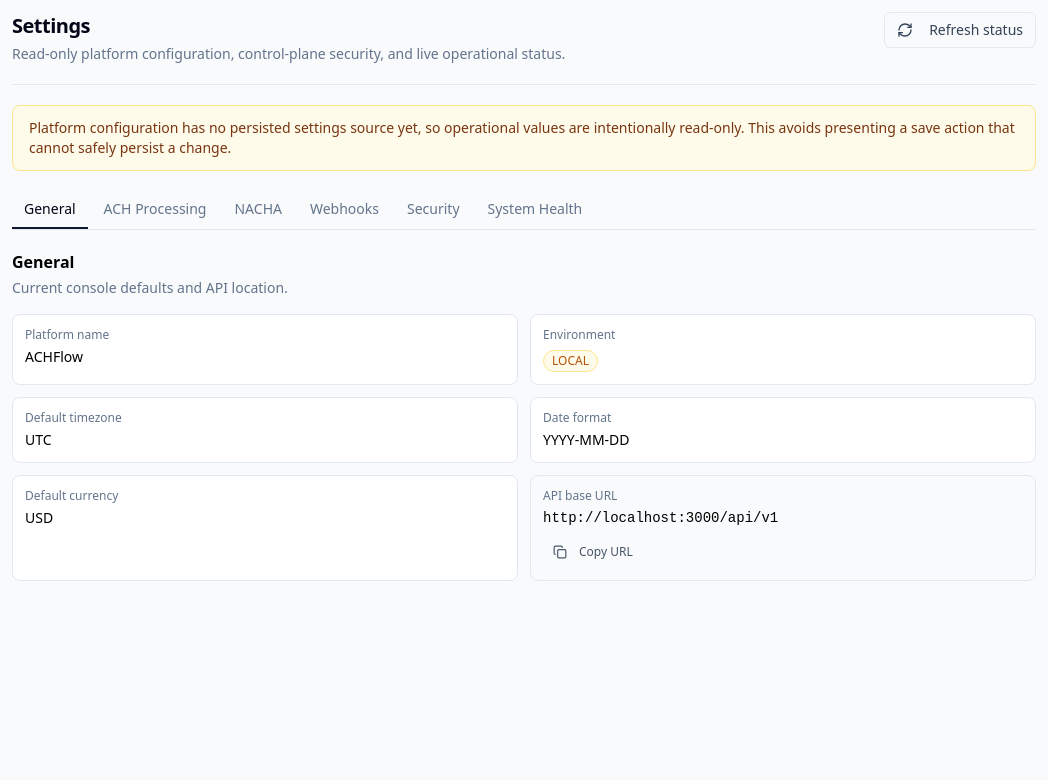
it: SettingsManager › shows live backlog, unknown worker health, and scheduled NACHA generation
Expected: the text "ACHFlow" is shown, [25, 347, 83, 366]
Click the button "ACH Processing". click: (155, 210)
box: [92, 191, 218, 229]
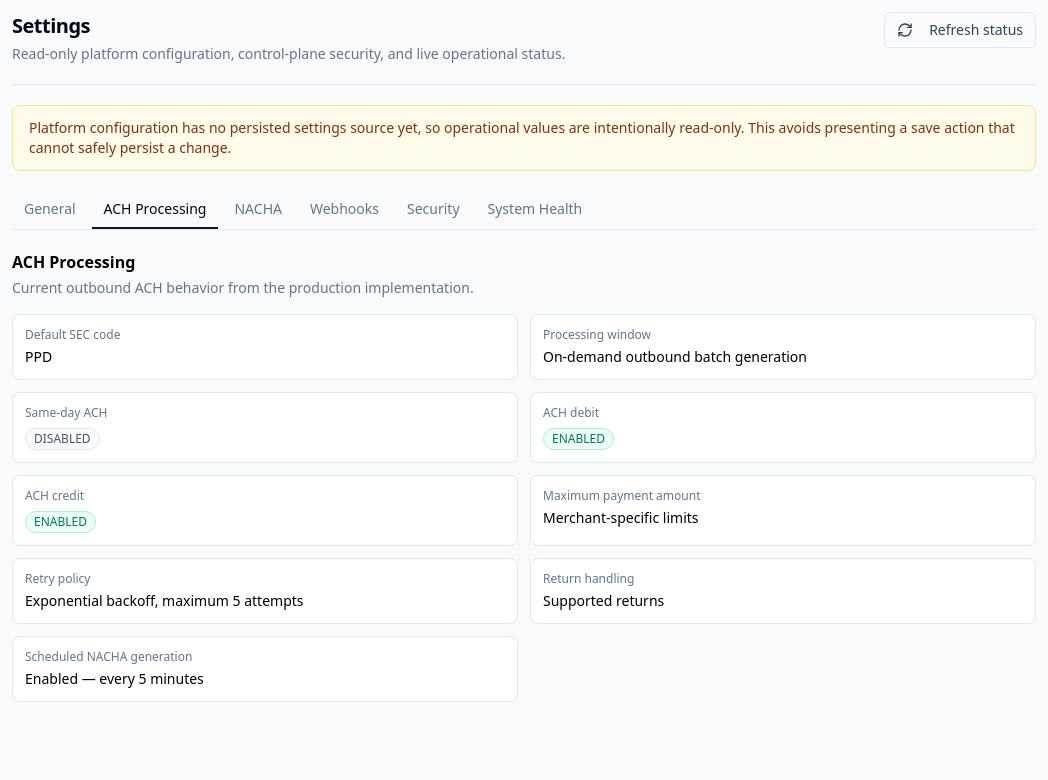
Expected: the text "Enabled — every 5 minutes" is shown, [25, 669, 204, 688]
Click the button "System Health". click: (535, 210)
box: [476, 191, 594, 229]
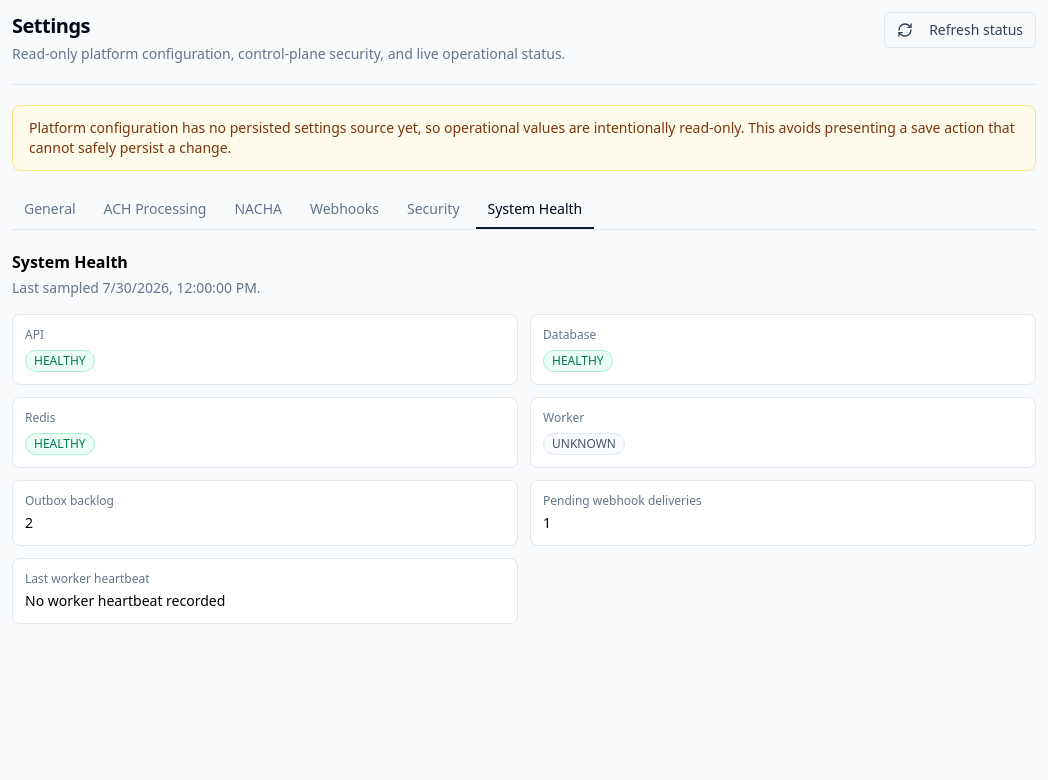
Expected: the text "Outbox backlog" is shown, [25, 492, 114, 509]
Expected: the text "UNKNOWN" is shown, [543, 433, 625, 455]
Expected: the text "No worker heartbeat recorded" is shown, [25, 591, 225, 610]
